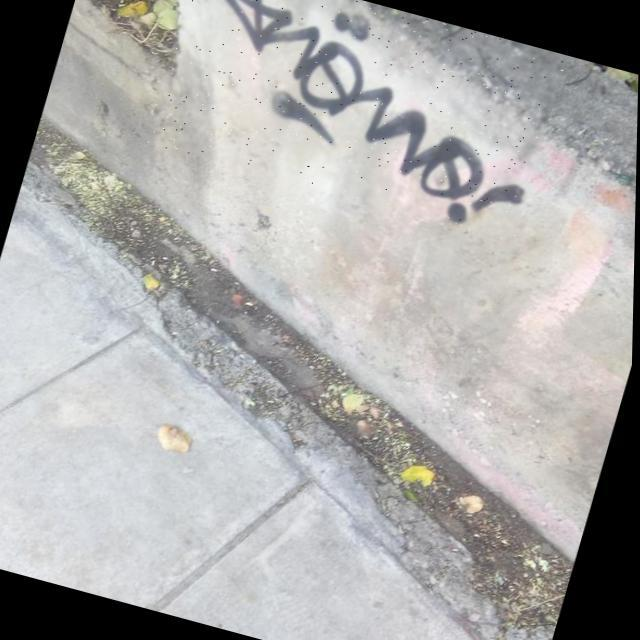-: (143, 0, 568, 241)
